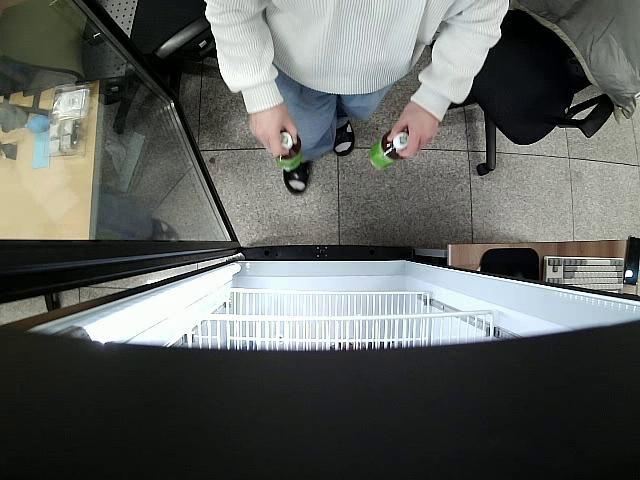19_17cha: (370, 133, 410, 172), (270, 124, 302, 172)
